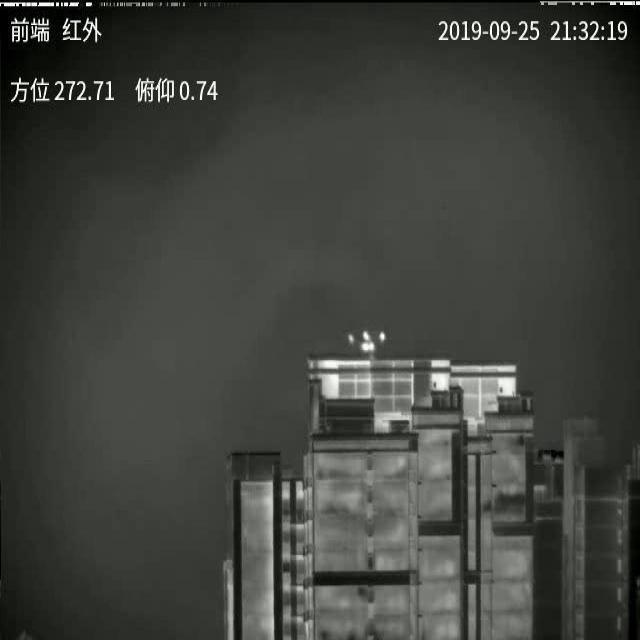drone: (347, 330, 388, 360)
